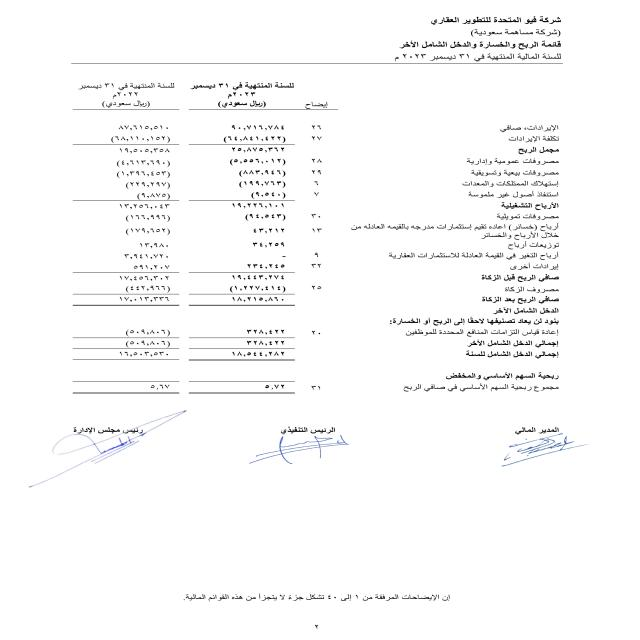financial_sheets: (395, 39, 564, 50)
table: (27, 69, 344, 408)
